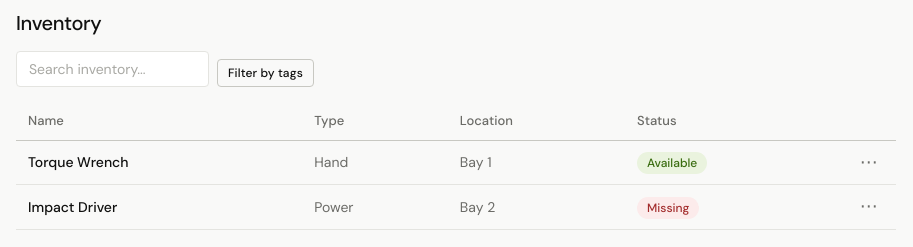
Test case: InventoryPage — tag filter › closes the dropdown when the button is clicked a second time
The width and height of the screenshot is (913, 247).
What coordinates should you click on to do the following:
click the button "Filter by tags"
I would click on:
 (265, 73)
Its box is [217,59,314,87].
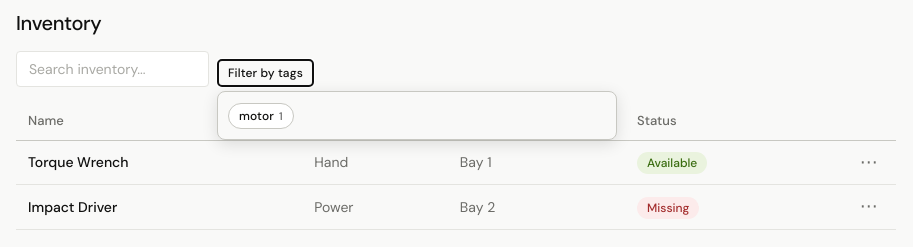
Now the button "motor1" is shown, box [228,103,294,129]
What coordinates should you click on to do the following:
click the button "Filter by tags"
I would click on:
 (265, 73)
Its box is [217,59,314,87].
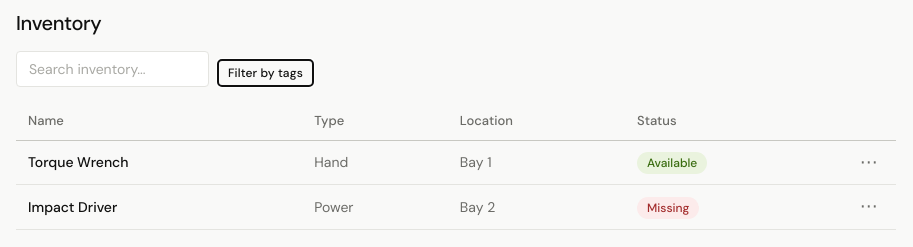
Now the button "motor" is gone
